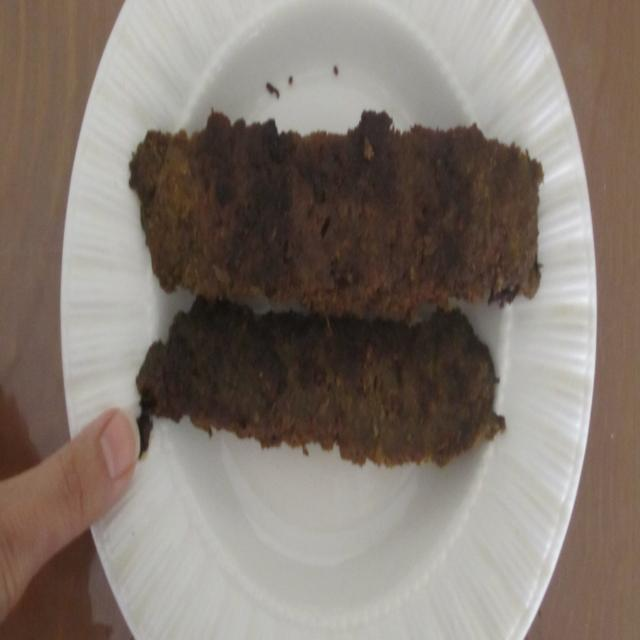cutlet: (143, 91, 561, 502)
